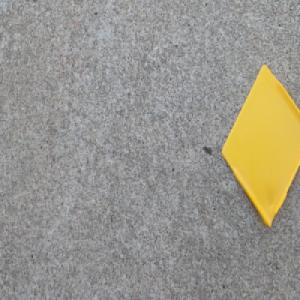PlasticPart: (221, 62, 300, 229)
